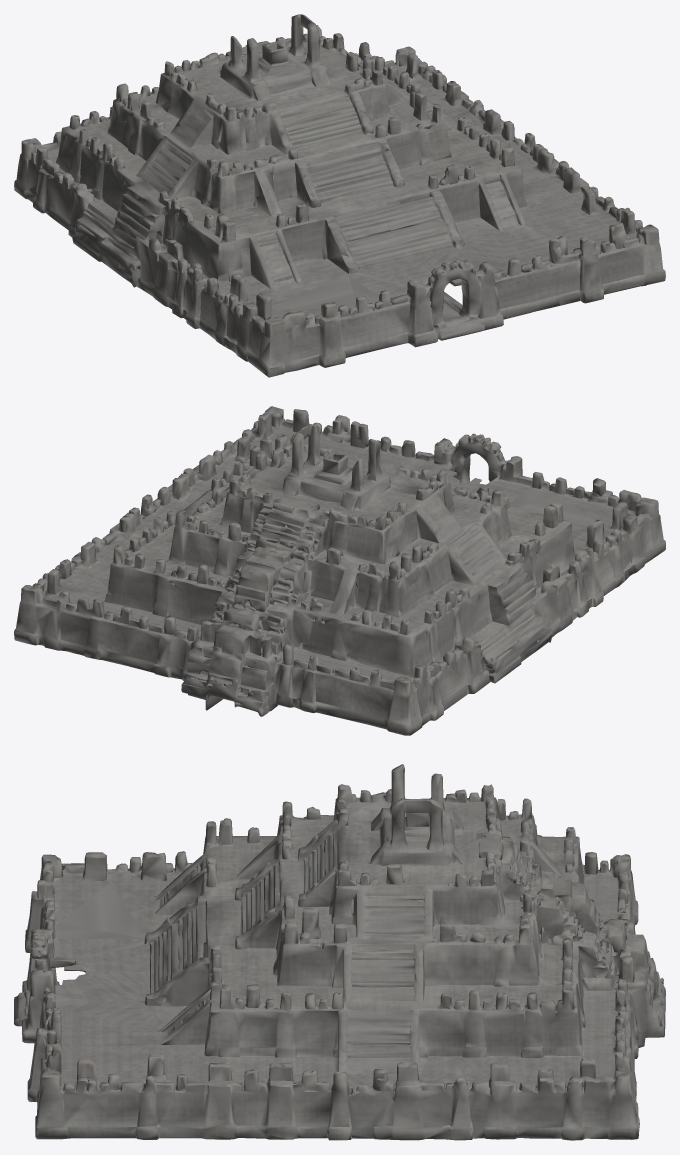
The picture shows the model from 3 angles, top to bottom: view 1: azimuth 30°, elevation 25°; view 2: azimuth 150°, elevation 25°; view 3: azimuth 270°, elevation 25°; orthographic projection. The views are drawn at different scales.
Parts seen in each view (by area): view 1: valley-castle.001; view 2: valley-castle.001; view 3: valley-castle.001.
Part boxes in pixels (left/top/right/bottom): valley-castle.001: left=14, top=14, right=665, bottom=377; valley-castle.001: left=14, top=406, right=665, bottom=735; valley-castle.001: left=14, top=764, right=665, bottom=1140.
Bounding box in the file's own units: 110 × 52.86 × 128.
Materials: 1 (1 with a texture image).
